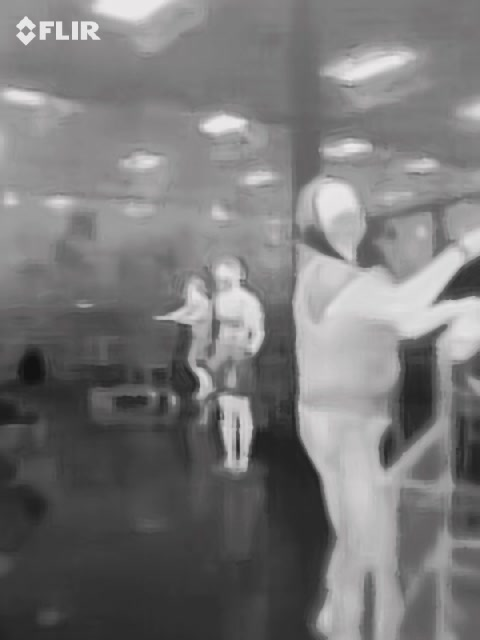head: (294, 174, 369, 257)
